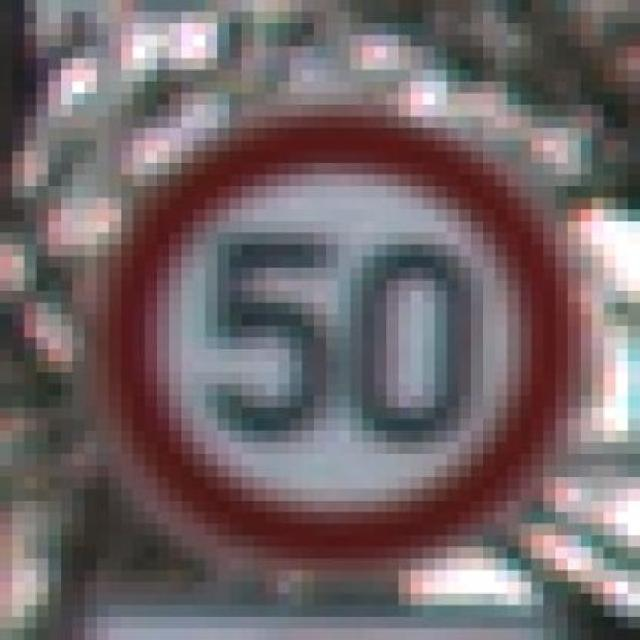forb_speed_over_50: (122, 122, 567, 556)
